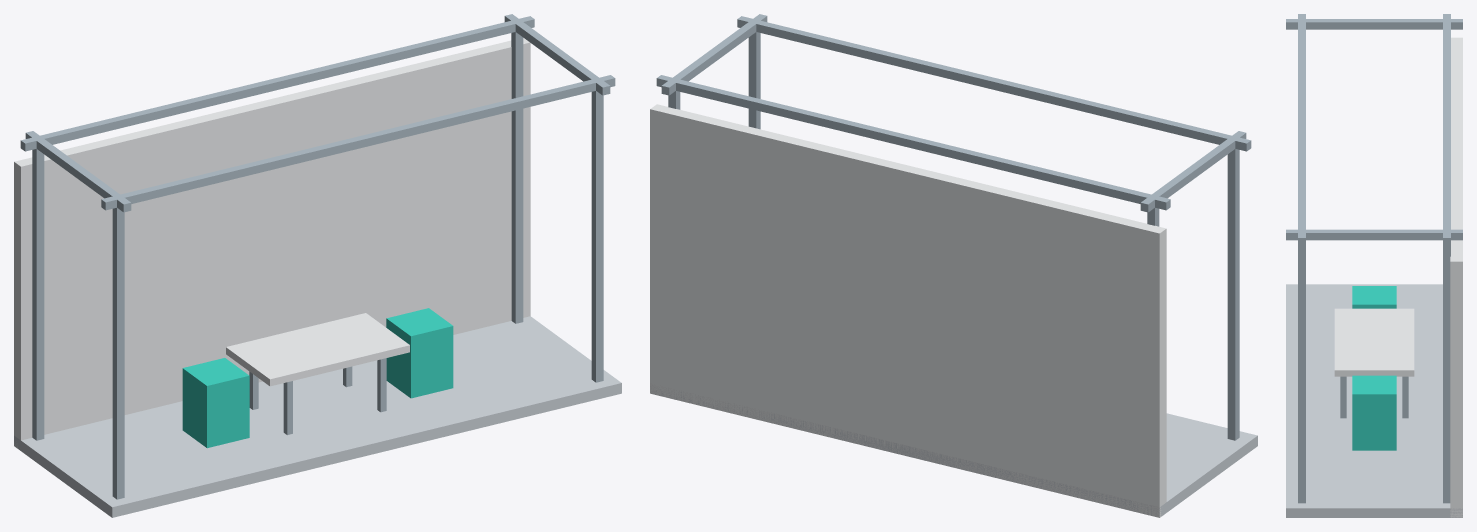
The picture shows the model from 3 angles, left to right: view 1: azimuth 30°, elevation 25°; view 2: azimuth 150°, elevation 25°; view 3: azimuth 270°, elevation 25°; orthographic projection. The views are drawn at different scales.
Parts seen in each view (by area): view 1: Exhibition Booth Concept; view 2: Exhibition Booth Concept; view 3: Exhibition Booth Concept.
Part boxes in pixels (x1,y1,x2,y2): Exhibition Booth Concept: (14,14,621,517); Exhibition Booth Concept: (650,14,1257,517); Exhibition Booth Concept: (1286,14,1462,517).
Bounding box in the file's own units: 6 × 3.49 × 2.
